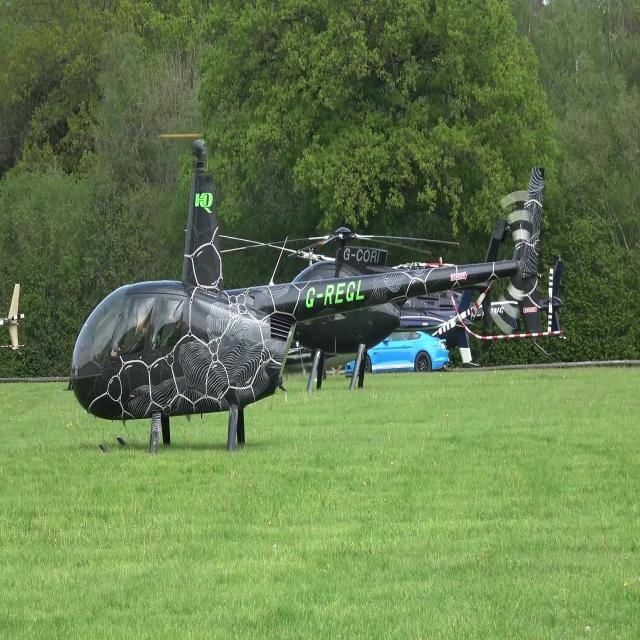CIV_HELO: (68, 136, 546, 463)
